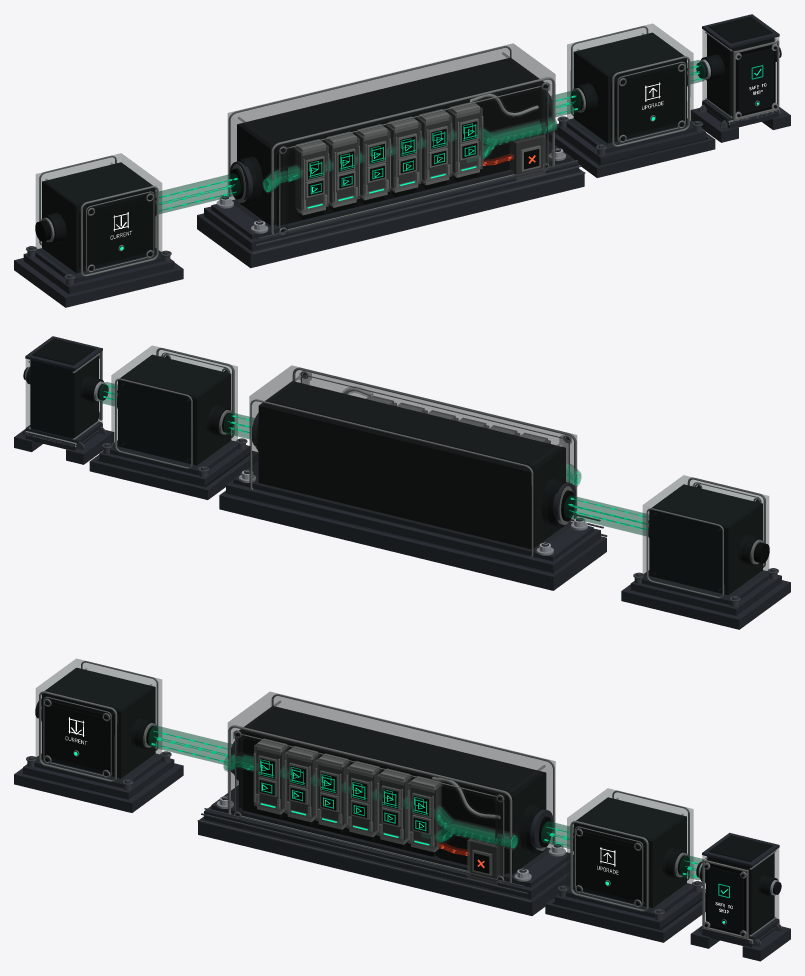
Rendered from forgecanary-release-runway.glb.
3 views of the same model, one above another, from view 1: azimuth 30°, elevation 25°; view 2: azimuth 150°, elevation 25°; view 3: azimuth 330°, elevation 25° (orthographic).
Visible parts, largest first — view 1: FC_GEOMETRY_REPLAY, FC_GEOMETRY_CURRENT, FC_GEOMETRY_UPGRADE, FC_GEOMETRY_SAFE_TO_SHIP, FC_GEOMETRY_PIPELINE; view 2: FC_GEOMETRY_REPLAY, FC_GEOMETRY_CURRENT, FC_GEOMETRY_UPGRADE, FC_GEOMETRY_SAFE_TO_SHIP, FC_GEOMETRY_PIPELINE; view 3: FC_GEOMETRY_REPLAY, FC_GEOMETRY_CURRENT, FC_GEOMETRY_UPGRADE, FC_GEOMETRY_SAFE_TO_SHIP, FC_GEOMETRY_PIPELINE.
Boxes of the visible parts, box(x1,y1,x2,y2) form: FC_GEOMETRY_REPLAY: box(197, 43, 585, 268); FC_GEOMETRY_CURRENT: box(14, 153, 183, 307); FC_GEOMETRY_UPGRADE: box(545, 23, 715, 177); FC_GEOMETRY_SAFE_TO_SHIP: box(690, 14, 790, 142); FC_GEOMETRY_PIPELINE: box(158, 60, 705, 213); FC_GEOMETRY_REPLAY: box(219, 365, 607, 590); FC_GEOMETRY_CURRENT: box(621, 475, 790, 629); FC_GEOMETRY_UPGRADE: box(89, 345, 258, 499); FC_GEOMETRY_SAFE_TO_SHIP: box(14, 336, 114, 464); FC_GEOMETRY_PIPELINE: box(99, 382, 649, 535); FC_GEOMETRY_REPLAY: box(197, 692, 573, 915); FC_GEOMETRY_CURRENT: box(14, 658, 183, 812); FC_GEOMETRY_UPGRADE: box(545, 788, 705, 942); FC_GEOMETRY_SAFE_TO_SHIP: box(690, 832, 790, 961); FC_GEOMETRY_PIPELINE: box(148, 725, 702, 880).
Bounding box in the file's own units: 17.37 × 2.58 × 2.23.
